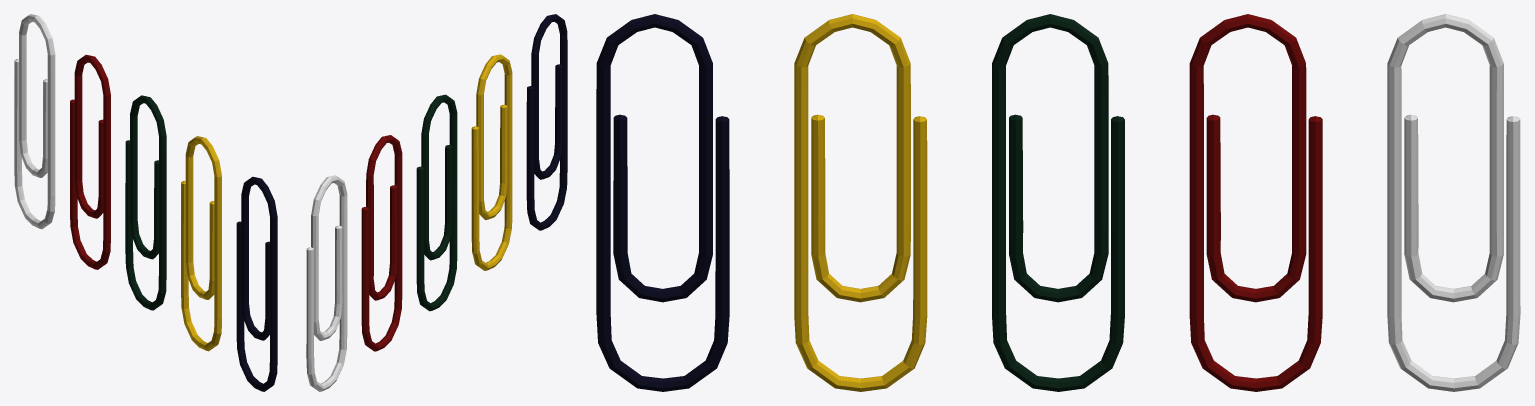
The model's file is clipss.fbx.
3 renders of one model, left to right at view 1: azimuth 30°, elevation 25°; view 2: azimuth 150°, elevation 25°; view 3: azimuth 270°, elevation 25°, orthographic. The views are drawn at different scales.
Visible parts, largest first — view 1: PaperClipWhite_PaperClipWhite_0, PaperClipGreen_PaperClipGreen_0, PaperClipBlue_PaperClipBlue_0, PaperClipRed_PaperClipRed_0, PapaerClipYellow_PapaerClipYellow_0; view 2: PaperClipRed_PaperClipRed_0, PaperClipGreen_PaperClipGreen_0, PapaerClipYellow_PapaerClipYellow_0, PaperClipWhite_PaperClipWhite_0, PaperClipBlue_PaperClipBlue_0; view 3: PaperClipRed_PaperClipRed_0, PaperClipWhite_PaperClipWhite_0, PapaerClipYellow_PapaerClipYellow_0, PaperClipBlue_PaperClipBlue_0, PaperClipGreen_PaperClipGreen_0.
Boxes of the visible parts, x1,y1,x2,y2 form: PaperClipWhite_PaperClipWhite_0: (14, 14, 55, 229); PaperClipGreen_PaperClipGreen_0: (125, 95, 166, 310); PaperClipBlue_PaperClipBlue_0: (236, 176, 277, 391); PaperClipRed_PaperClipRed_0: (70, 54, 110, 269); PapaerClipYellow_PapaerClipYellow_0: (181, 136, 221, 351); PaperClipRed_PaperClipRed_0: (361, 135, 402, 351); PaperClipGreen_PaperClipGreen_0: (416, 94, 457, 311); PapaerClipYellow_PapaerClipYellow_0: (471, 54, 512, 270); PaperClipWhite_PaperClipWhite_0: (306, 175, 347, 391); PaperClipBlue_PaperClipBlue_0: (526, 14, 567, 230); PaperClipRed_PaperClipRed_0: (1189, 14, 1322, 391); PaperClipWhite_PaperClipWhite_0: (1387, 14, 1520, 391); PapaerClipYellow_PapaerClipYellow_0: (794, 14, 927, 391); PaperClipBlue_PaperClipBlue_0: (596, 14, 729, 391); PaperClipGreen_PaperClipGreen_0: (992, 14, 1124, 391).
Size of the model in its own units: 0.103 by 3 by 6.66.
